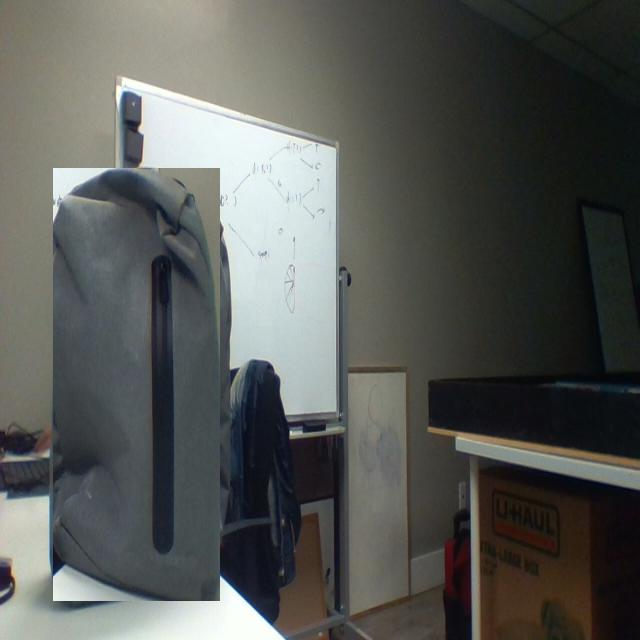Backpacks: (53, 168, 221, 602)
